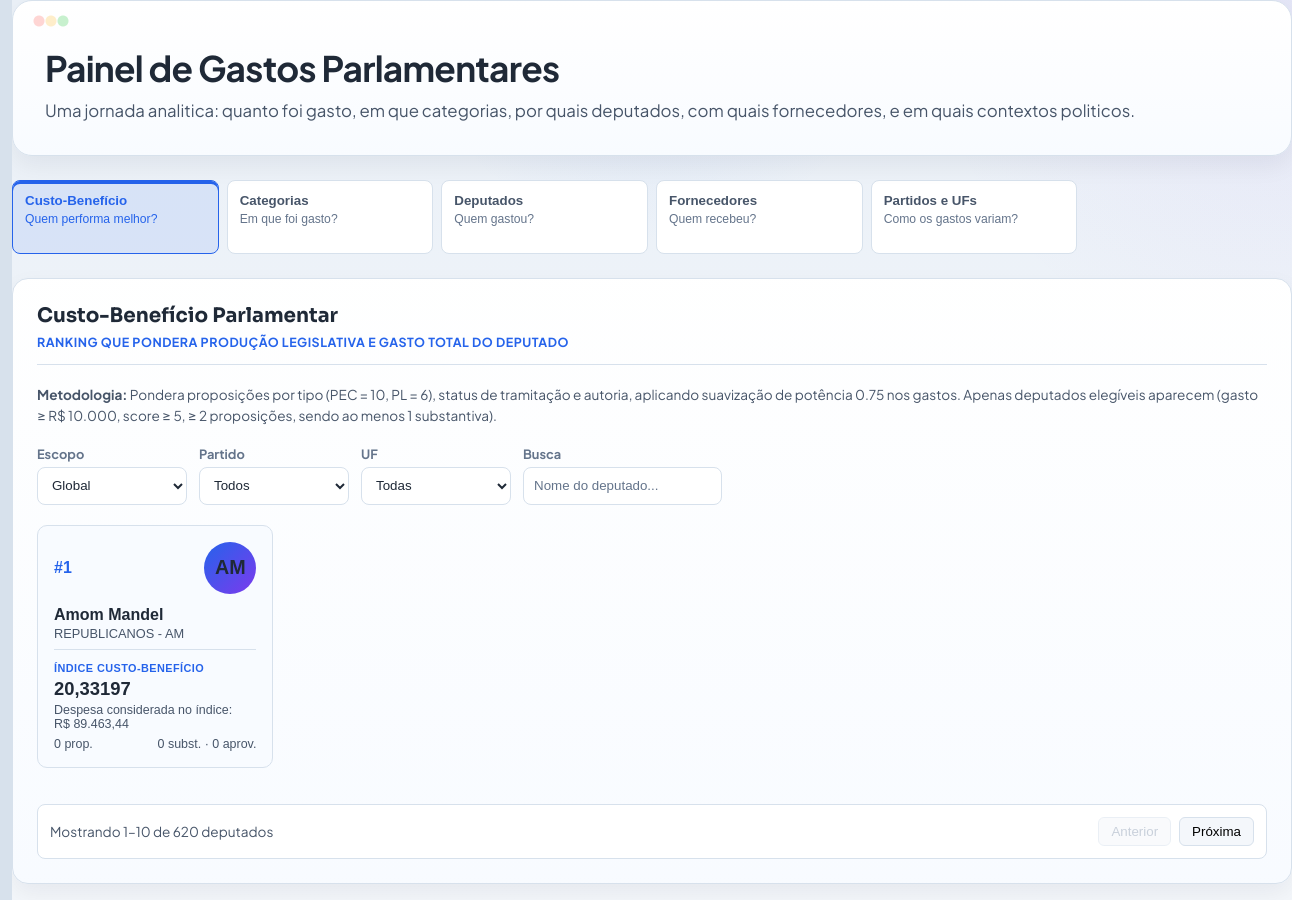
Test: renders the Q7 ranking in the gastos dashboard and supports the annual partial view
Expected: the heading "Custo-Benefício Parlamentar" is shown, [37,303,338,328]
Expected: the text "Amom Mandel" is shown, [54,606,163,623]
Filters are directly available — switch to annual scope and pick 2026
Select "Anual" in the dropdown labelled "Escopo" at (112, 486), box [37,467,187,505]
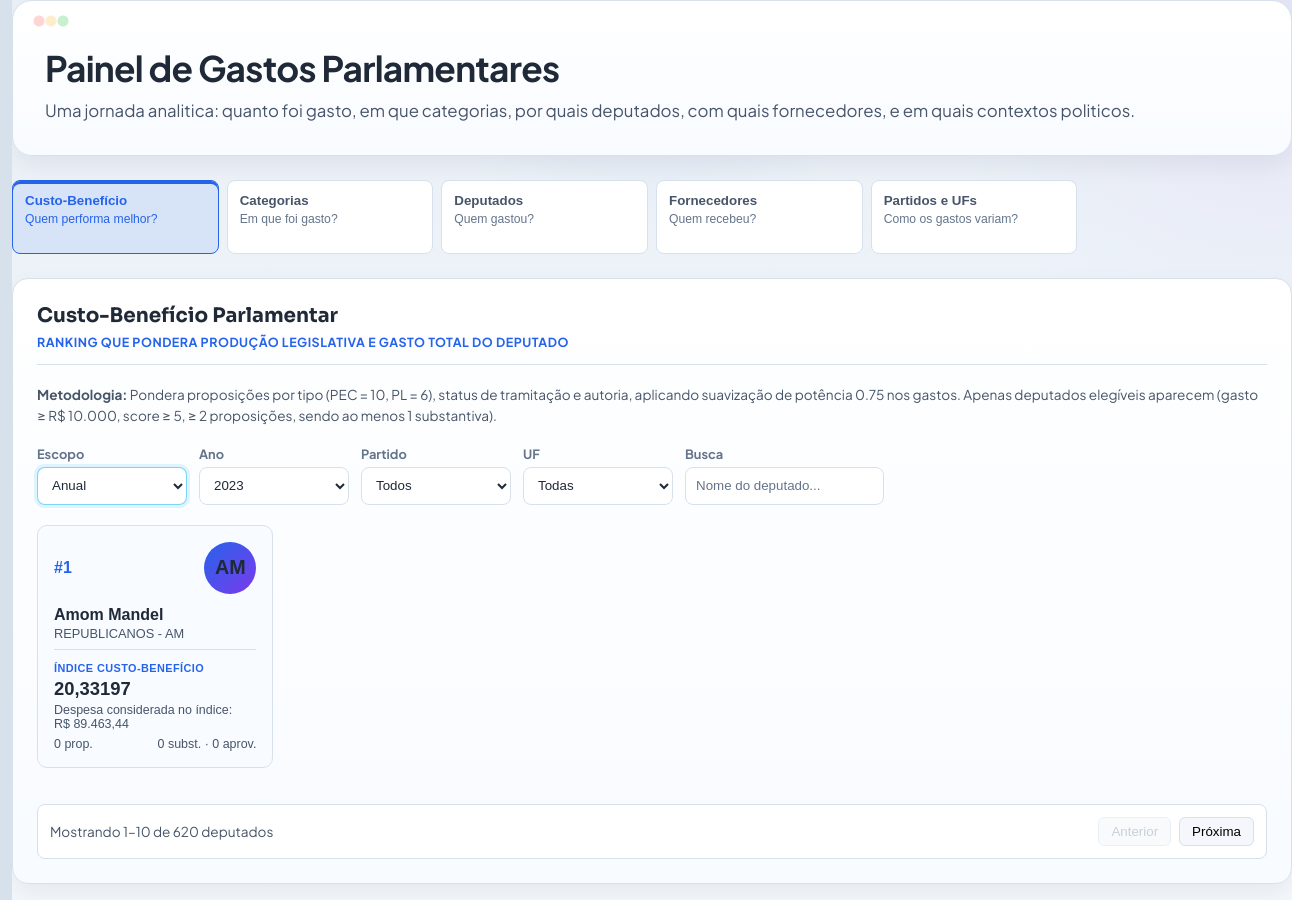
Select "2026" in the dropdown labelled "Ano" at (274, 486), box [199,467,349,505]
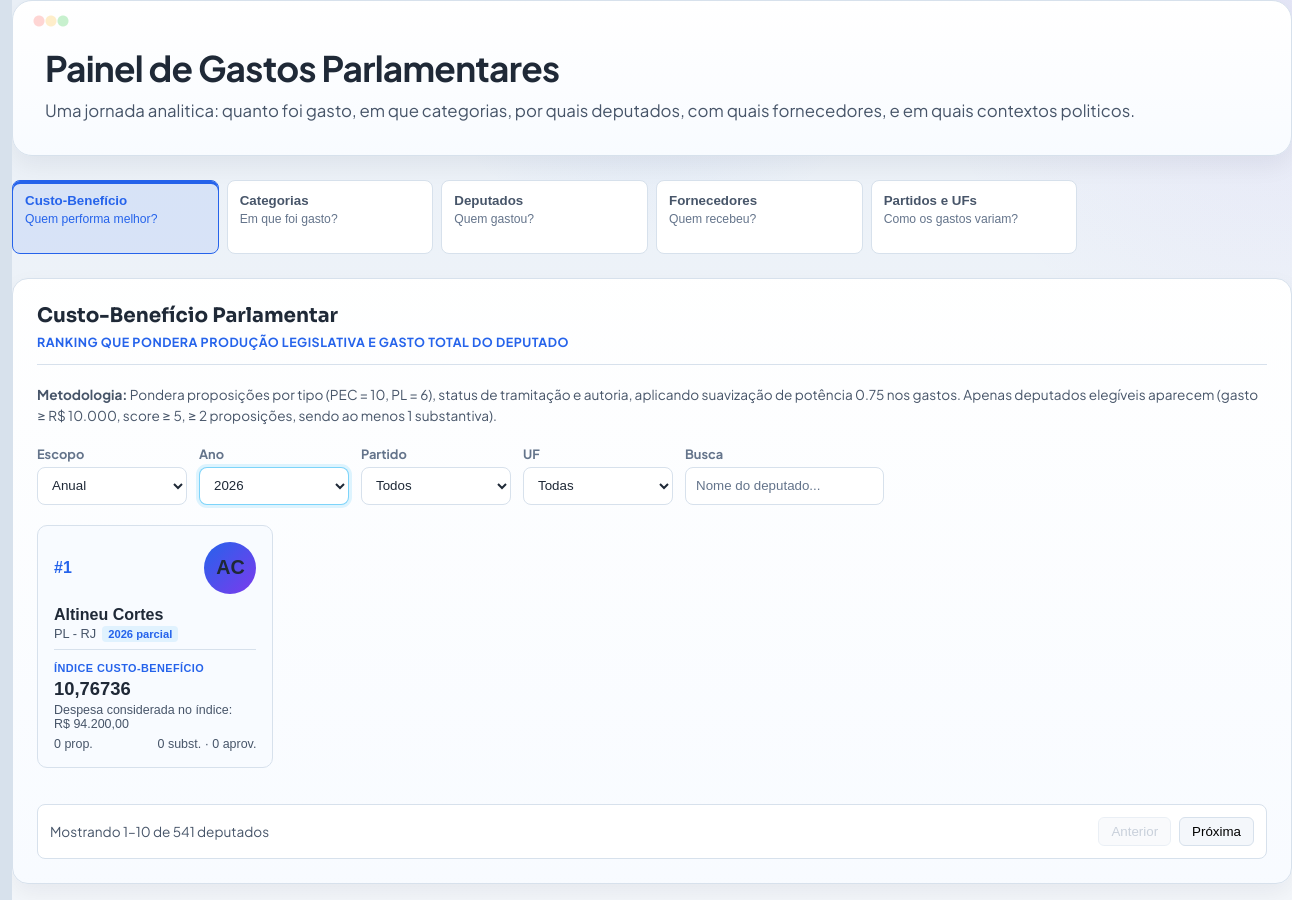
Result: the text "2026 parcial" is shown at [102,626,178,642]
Result: the text "Altineu Cortes" is shown at [54,606,163,623]
